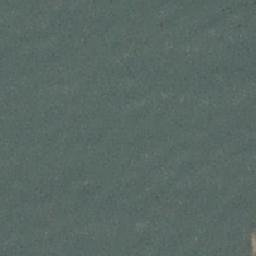debris: (246, 232, 255, 254)
